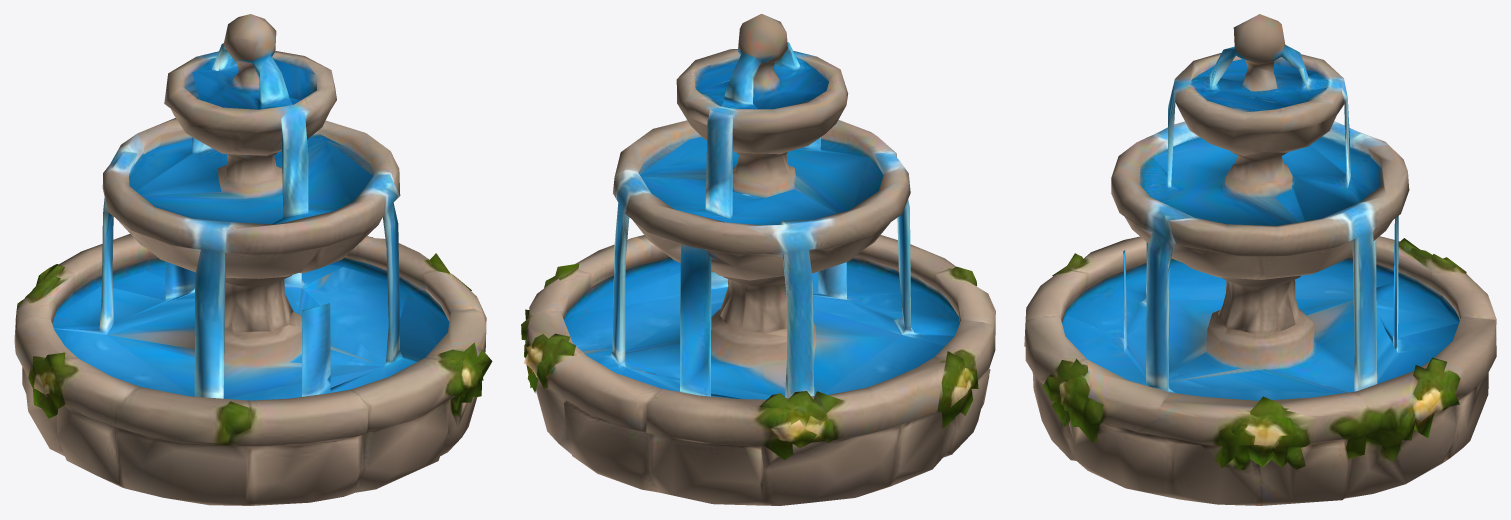
File: fountain.glb
3 views of the same model, side by side, from view 1: azimuth 30°, elevation 25°; view 2: azimuth 150°, elevation 25°; view 3: azimuth 270°, elevation 25° (orthographic).
Parts seen in each view (by area): view 1: model; view 2: model; view 3: model.
Part boxes in pixels (<box>): model: <box>14,14,492,505</box>; model: <box>521,14,995,505</box>; model: <box>1024,14,1496,505</box>.
Size of the model in its own units: 1.89 by 1.77 by 1.87.
1 material, 1 textured.
